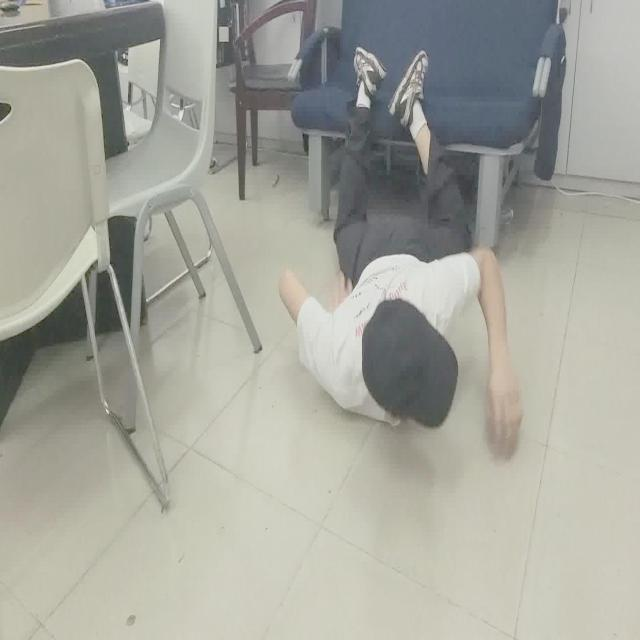fall: (276, 44, 525, 468)
